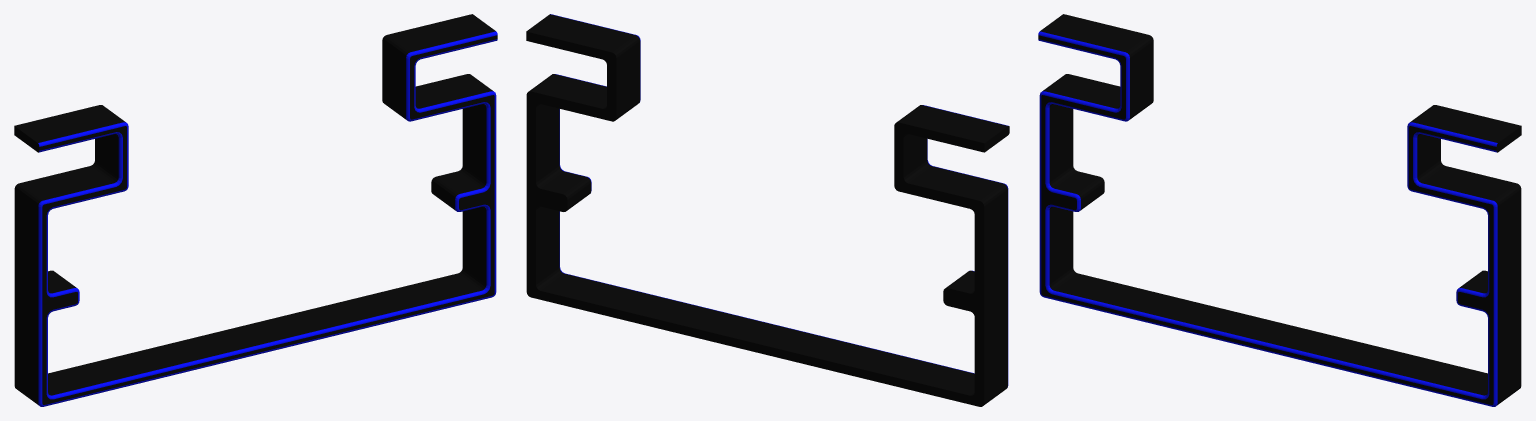
Rendered from 2_Bottom_Exterior_Wall.obj.
3 views of the same model, side by side, from view 1: azimuth 30°, elevation 25°; view 2: azimuth 150°, elevation 25°; view 3: azimuth 330°, elevation 25° (orthographic).
Visible parts, largest first — view 1: Bottom_Exterior_Wall_Plane.006; view 2: Bottom_Exterior_Wall_Plane.006; view 3: Bottom_Exterior_Wall_Plane.006.
Part boxes in pixels (x1,y1,x2,y2): Bottom_Exterior_Wall_Plane.006: (14, 14, 497, 406); Bottom_Exterior_Wall_Plane.006: (526, 14, 1009, 406); Bottom_Exterior_Wall_Plane.006: (1038, 14, 1521, 406).
Bounding box in the file's own units: 52.55 × 29.01 × 5.
